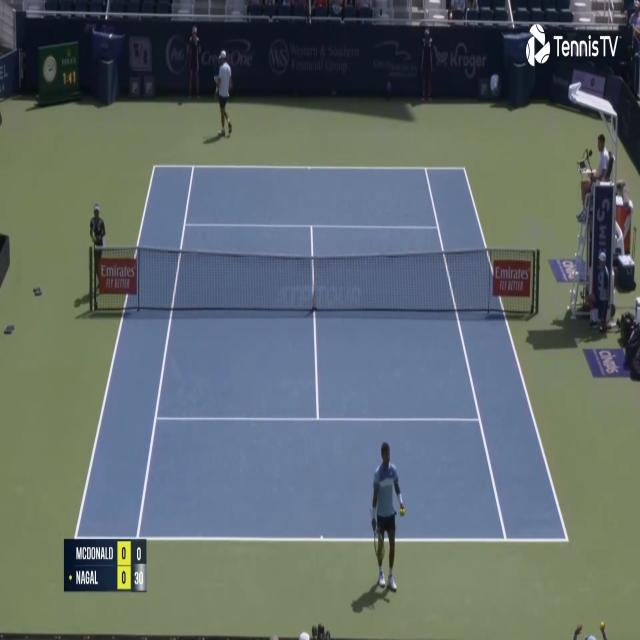tennis-player: (368, 438, 408, 597), (212, 49, 233, 138)
